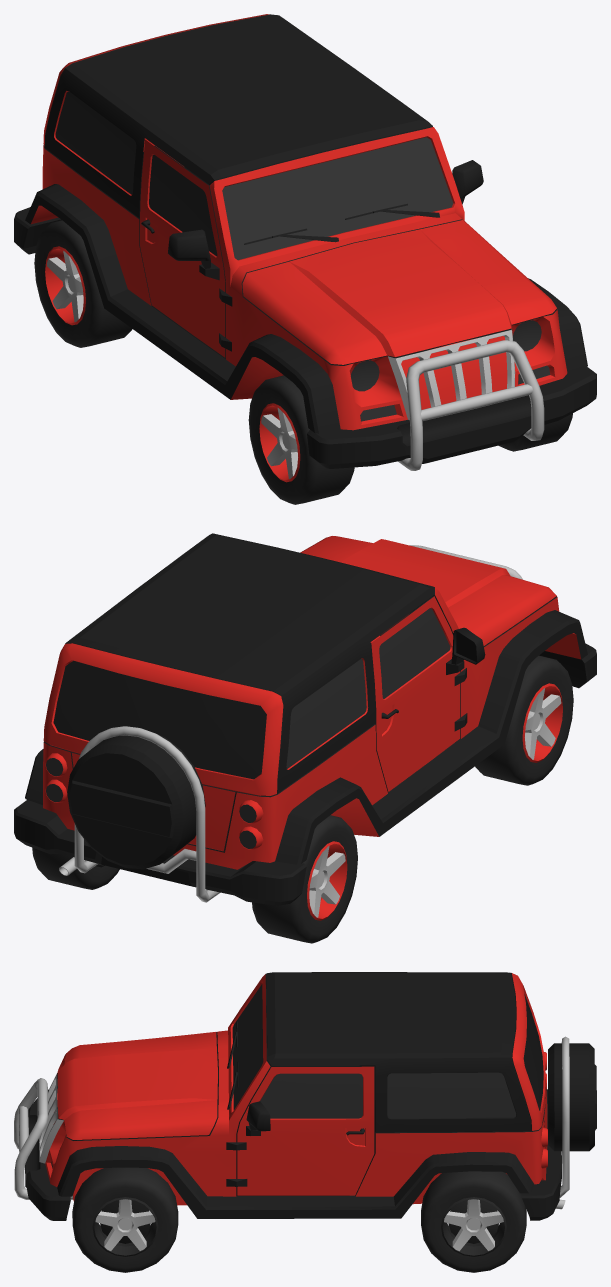
File: Car-8.fbx
3 views of the same model, one above another, from view 1: azimuth 30°, elevation 25°; view 2: azimuth 150°, elevation 25°; view 3: azimuth 270°, elevation 25° (orthographic). The views are drawn at different scales.
Parts seen in each view (by area): view 1: Car-8; view 2: Car-8; view 3: Car-8.
Boxes of the visible parts, x1=… form: Car-8: x1=14, y1=14, x2=596, y2=504; Car-8: x1=14, y1=533, x2=596, y2=943; Car-8: x1=14, y1=972, x2=596, y2=1272.
Bounding box in the file's own units: 141 × 113 × 283.
